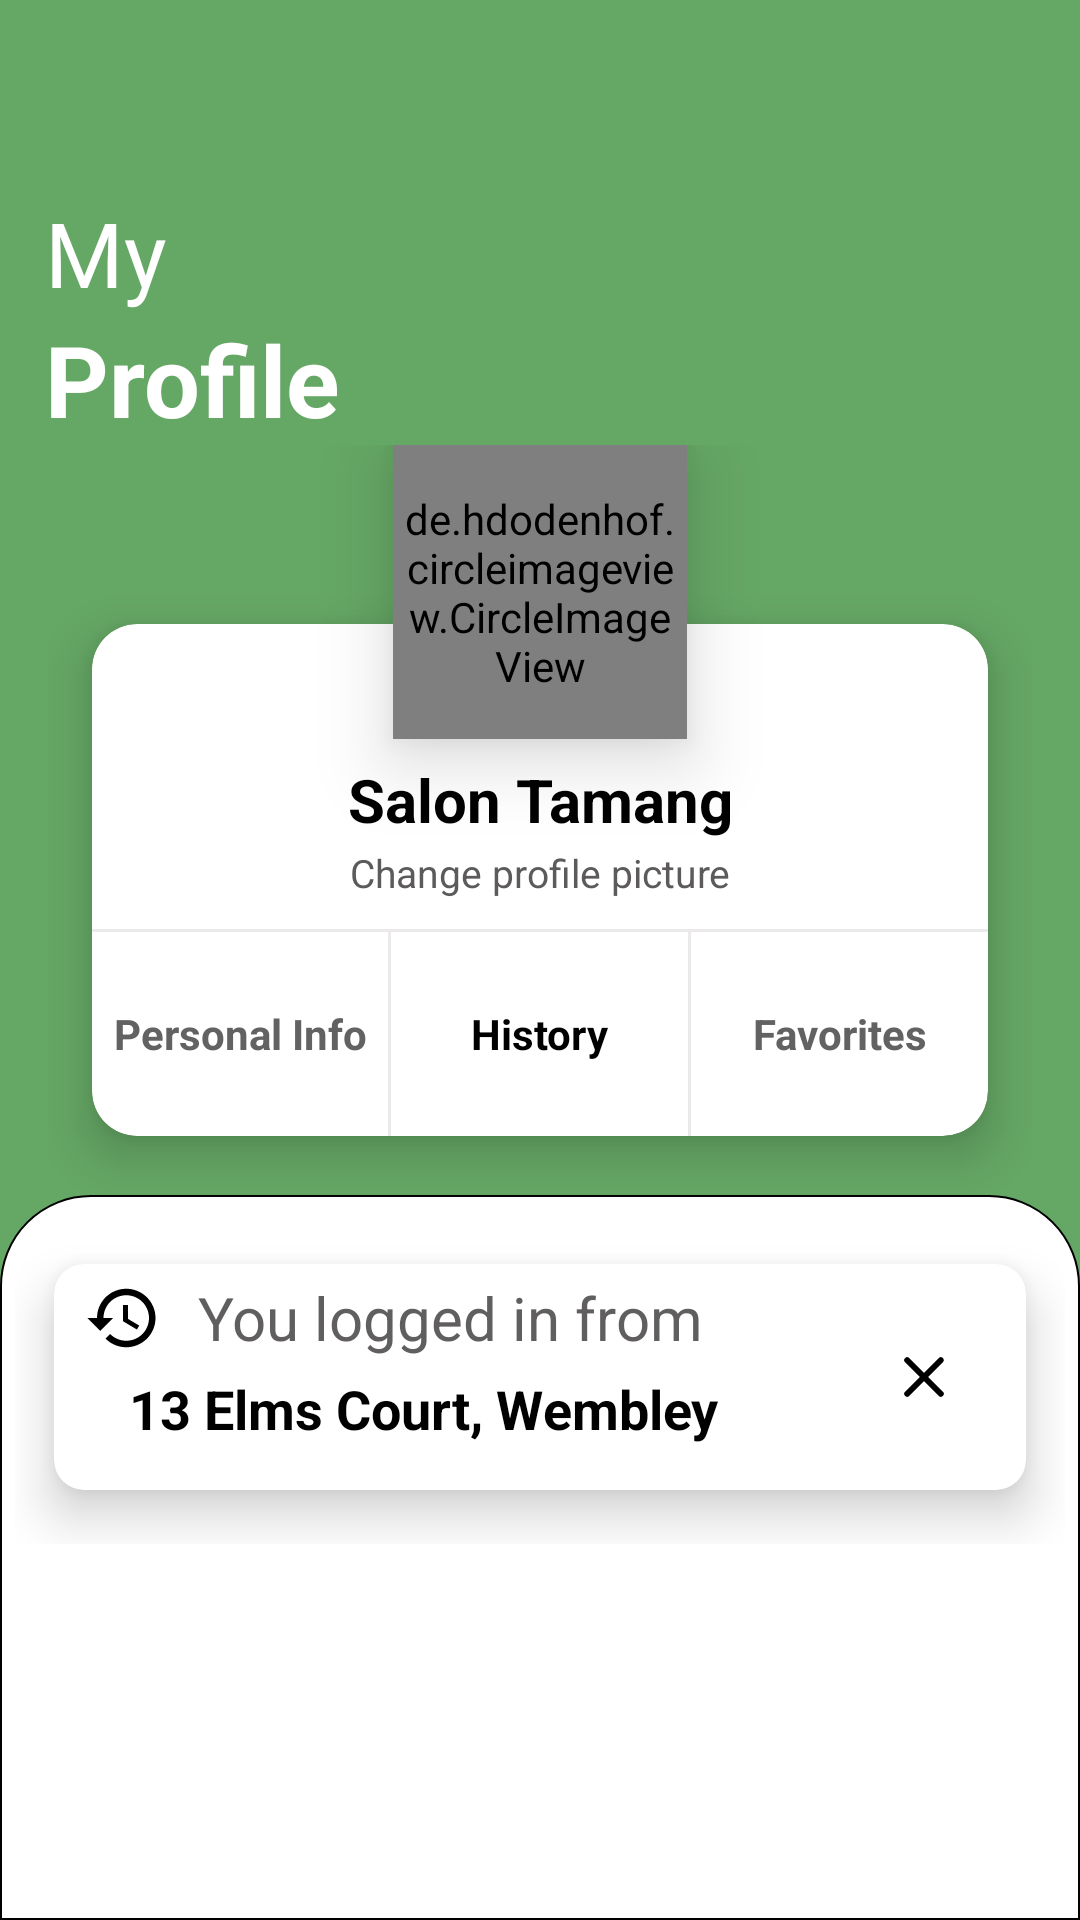

Screen size 1080 x 1920. Icon name, then its box in pixels as (x1, y1, x2, y2):
History: (87, 1288, 156, 1348)
remove history: (904, 1357, 944, 1397)
